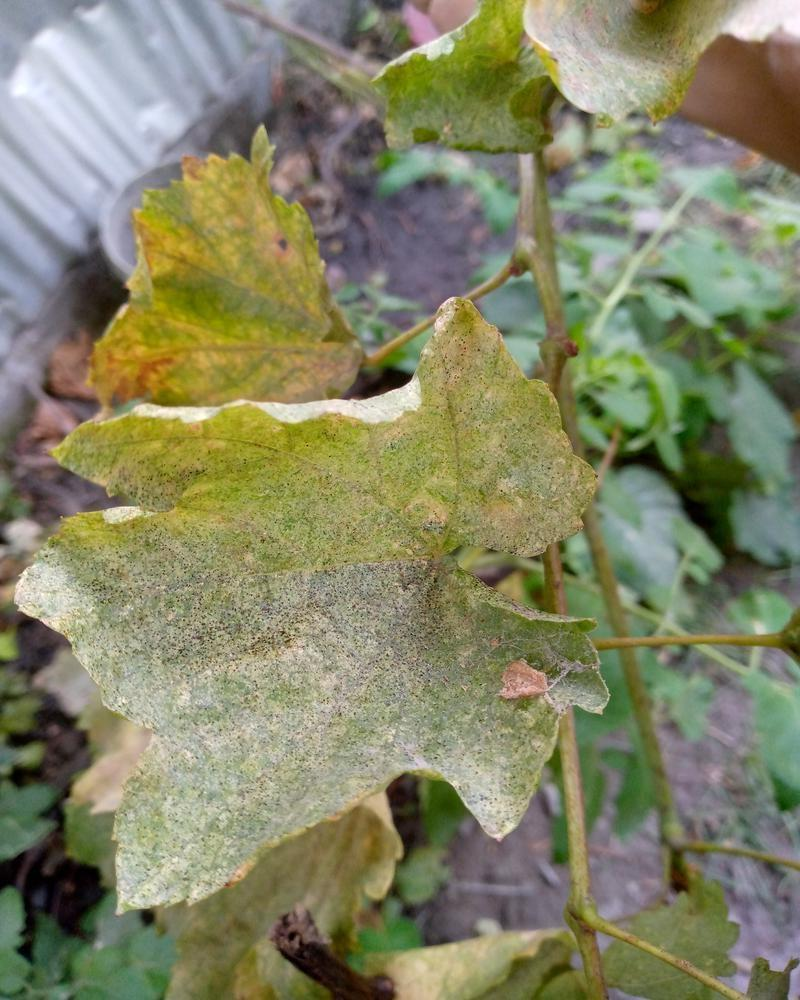Powdery-Mildew: (232, 621, 351, 697), (453, 447, 526, 535), (16, 552, 95, 631), (447, 739, 526, 818), (157, 775, 236, 854), (492, 658, 555, 721)
